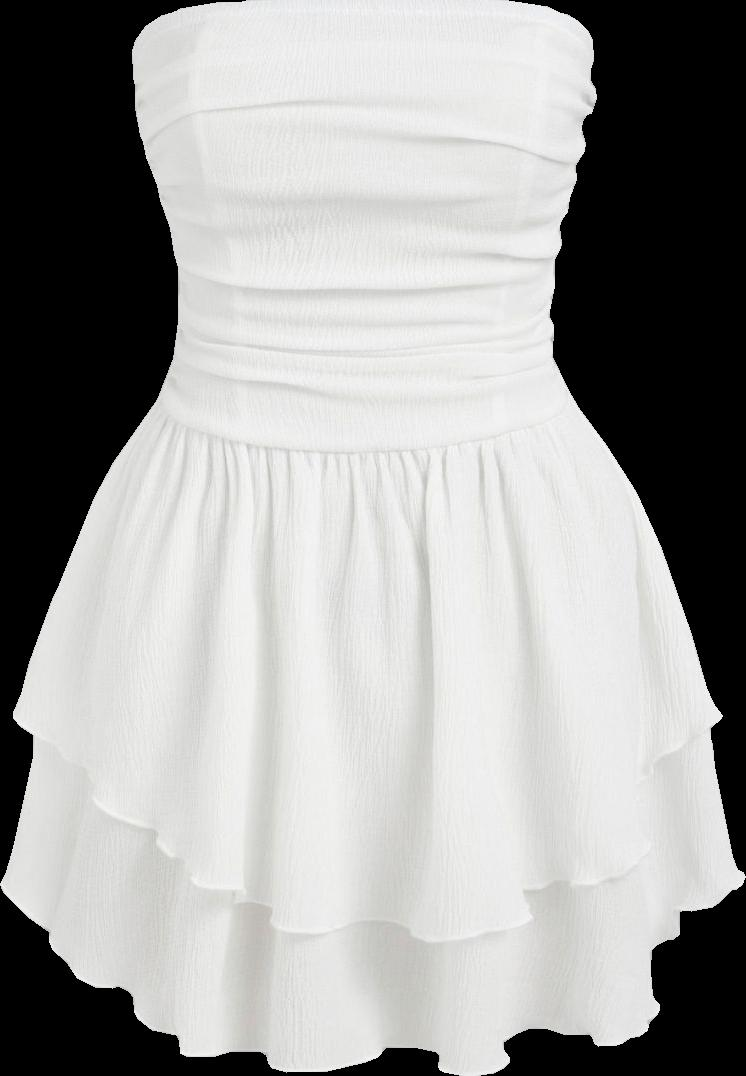Bodice: (132, 0, 596, 456)
Hemline: (7, 707, 726, 951), (0, 873, 744, 1075)
Neckline: (128, 0, 597, 55)
Skirt: (1, 409, 745, 1075)
Waistline: (146, 399, 585, 466)
